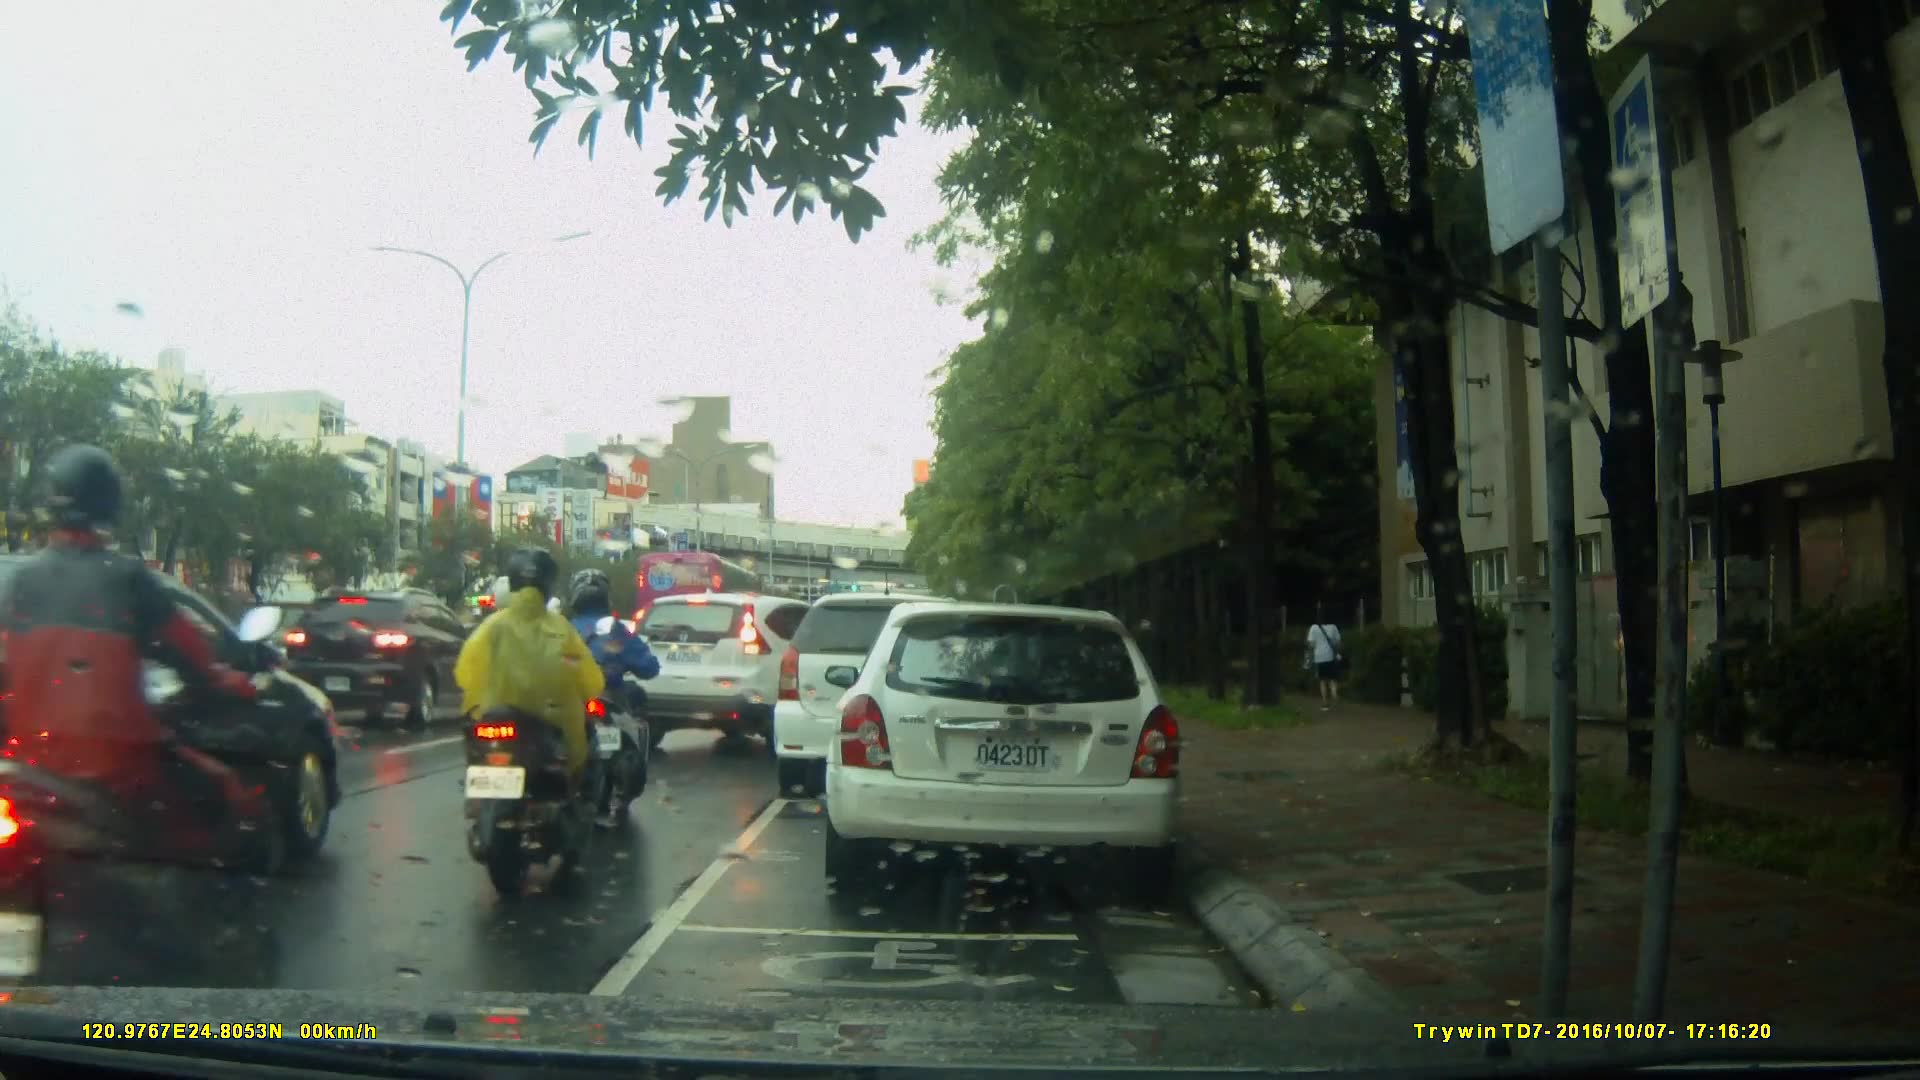pedestrian: (1297, 600, 1354, 724)
rider: (1, 449, 281, 1017), (453, 553, 607, 896), (546, 566, 664, 835), (453, 572, 543, 816)
vehicle: (1, 550, 333, 919), (835, 594, 1194, 898), (776, 590, 1026, 784), (614, 588, 874, 761), (278, 583, 491, 731), (635, 550, 765, 639)
